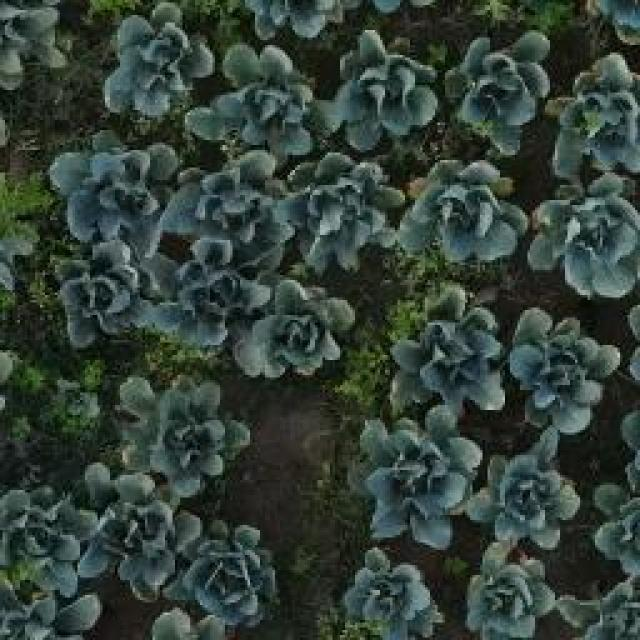cabbage: (190, 42, 342, 157), (326, 23, 453, 146), (168, 154, 294, 268), (389, 298, 505, 414), (96, 8, 221, 114), (125, 375, 243, 487), (46, 133, 167, 242), (470, 432, 580, 550), (456, 31, 560, 153), (354, 421, 462, 538), (512, 318, 621, 427), (407, 164, 520, 268), (286, 160, 401, 260), (547, 55, 640, 176), (537, 190, 640, 299), (76, 482, 180, 582), (177, 518, 278, 618), (239, 282, 350, 369), (68, 245, 166, 343), (146, 247, 240, 348), (0, 484, 82, 587), (352, 554, 441, 640), (464, 555, 553, 640)
